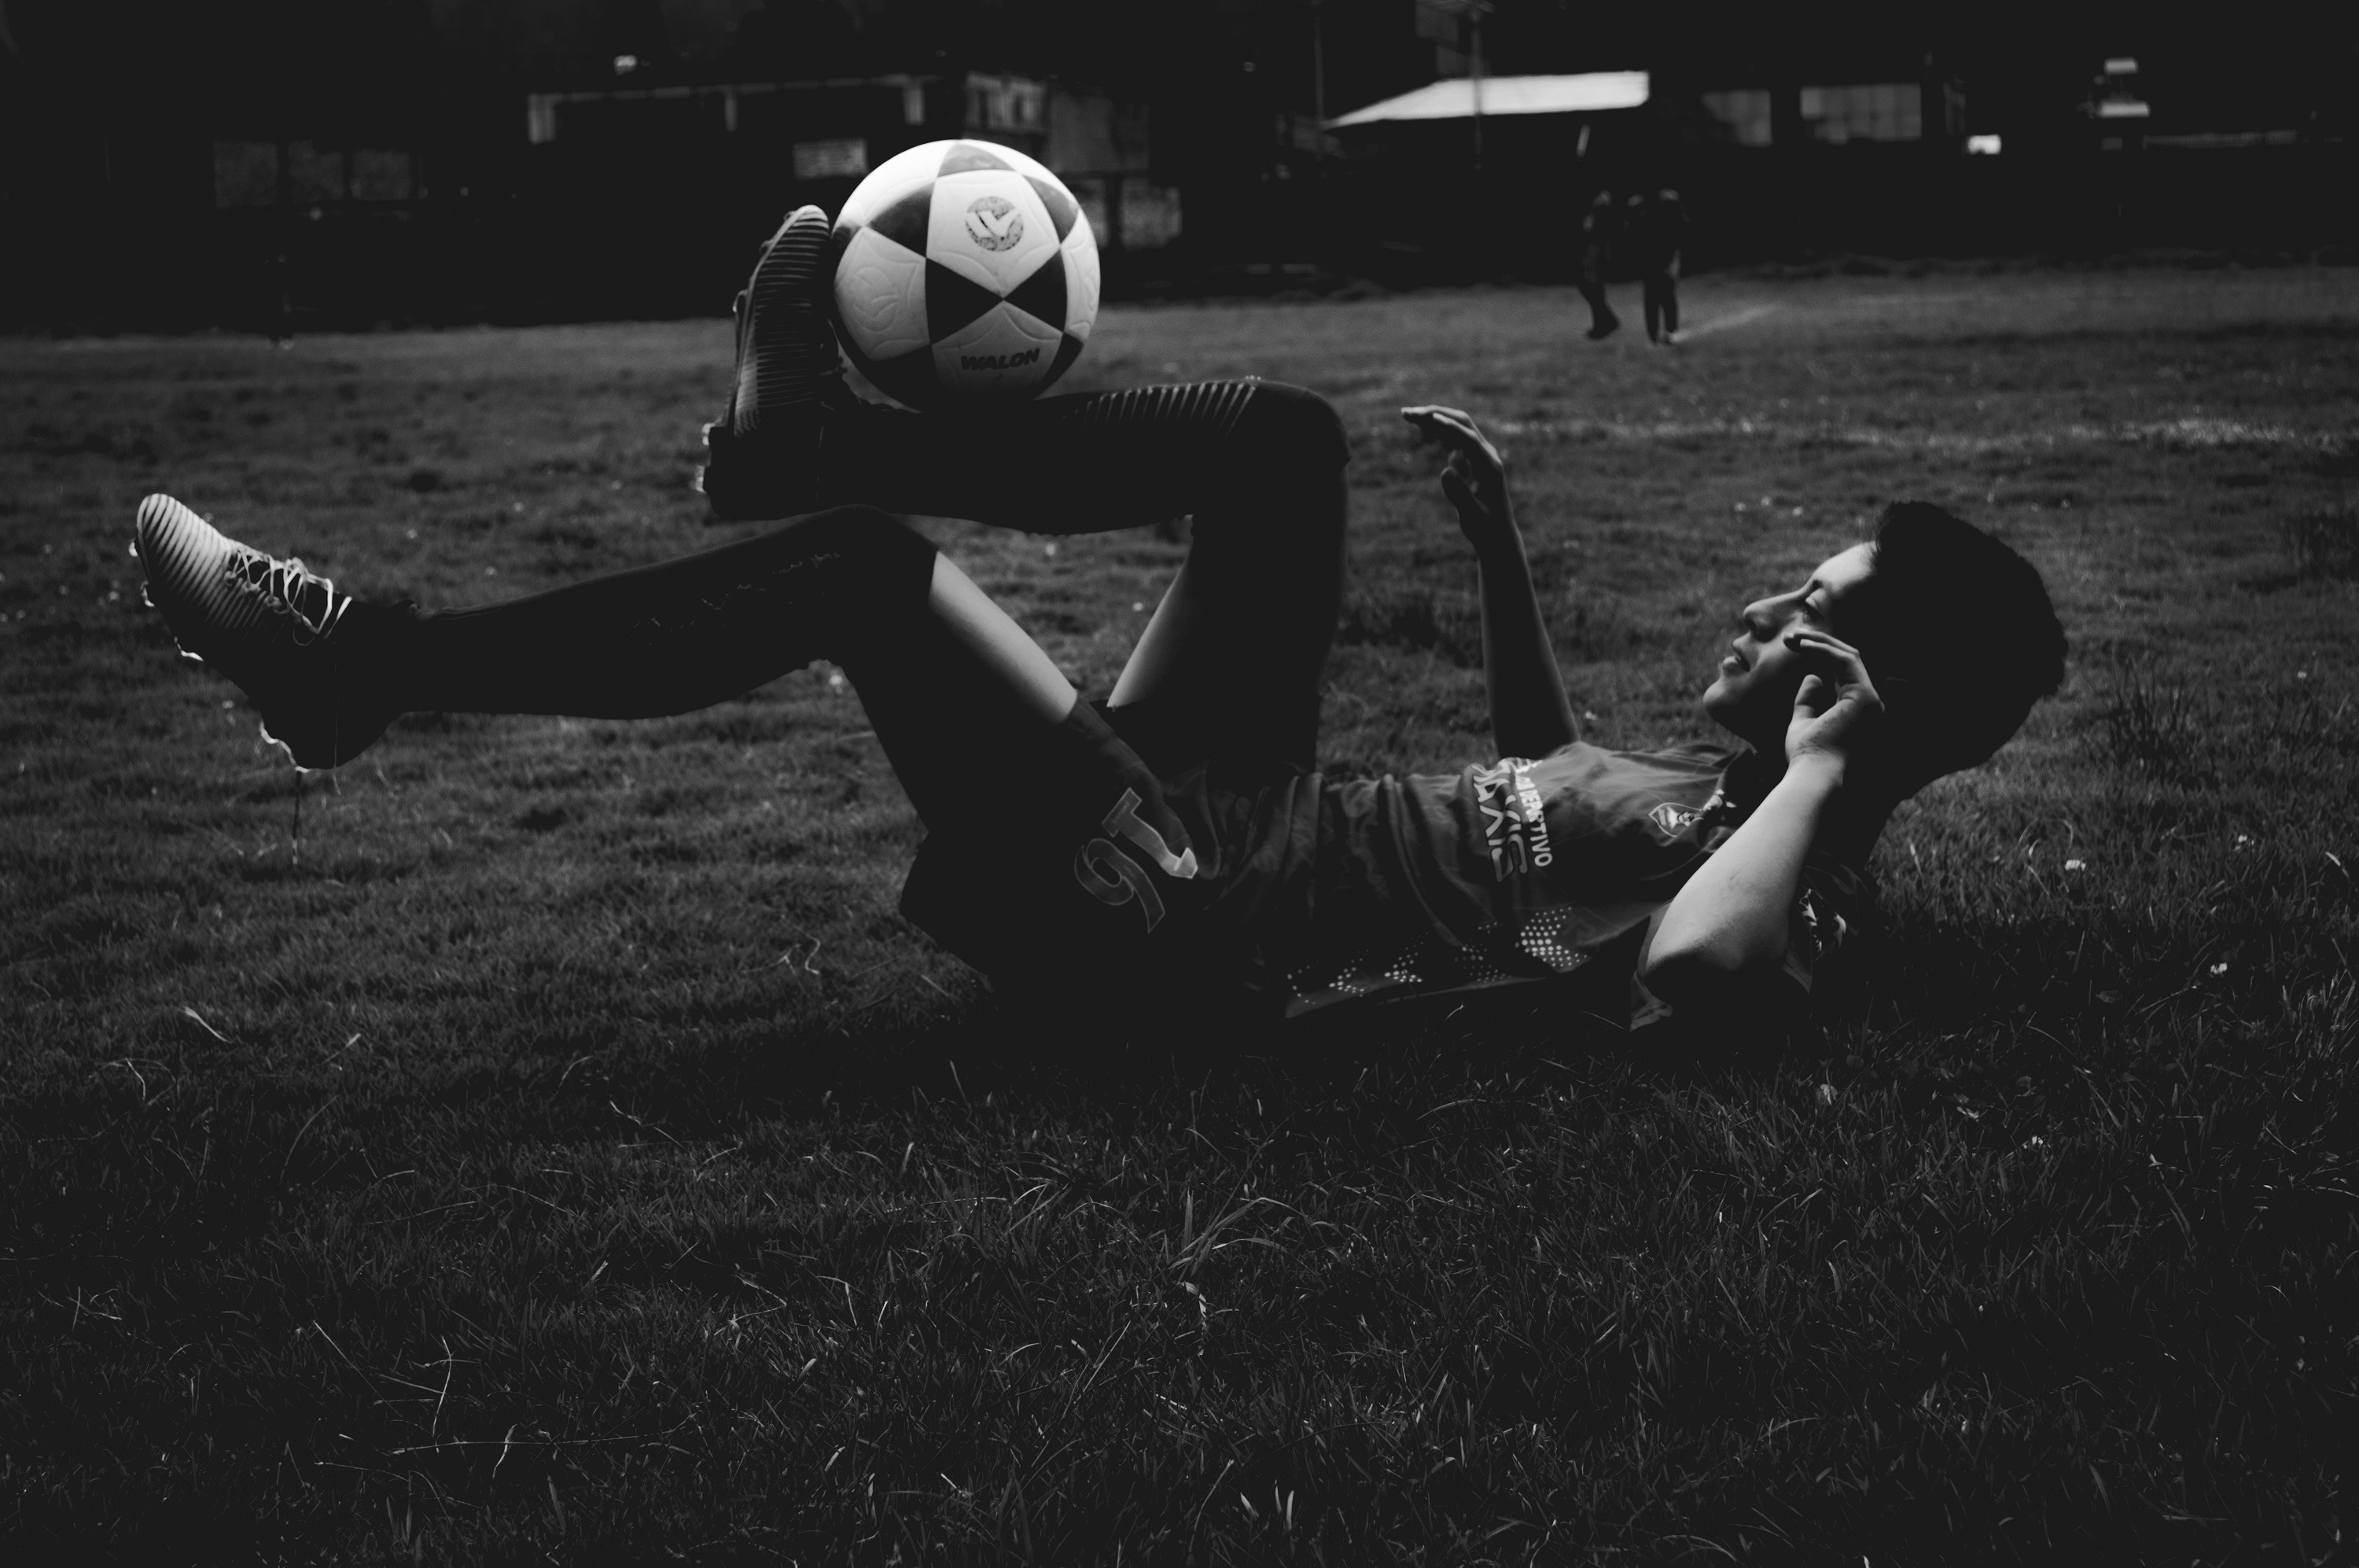player: (425, 307, 2146, 1046)
soccer ball: (804, 133, 1138, 399)
soccer cleats: (86, 485, 466, 829), (708, 186, 863, 517)
